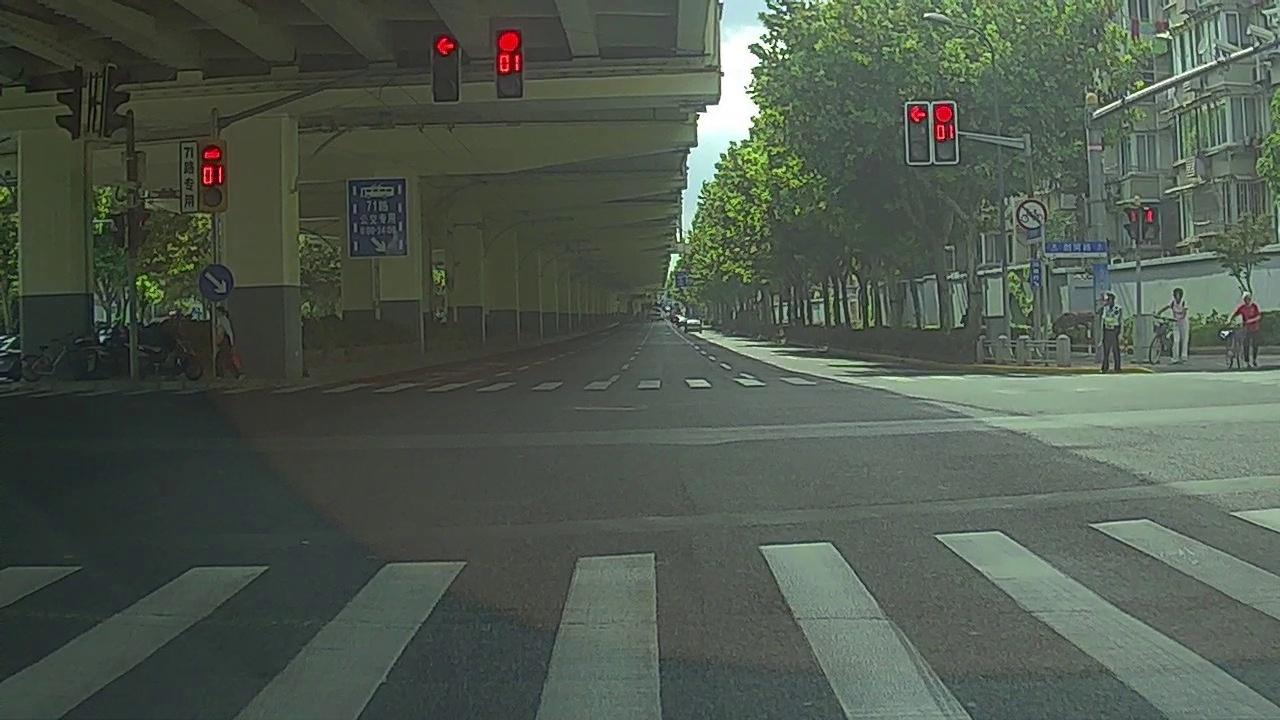traffic_light: (495, 29, 522, 99), (433, 34, 459, 104), (931, 103, 957, 163), (906, 103, 930, 162)
